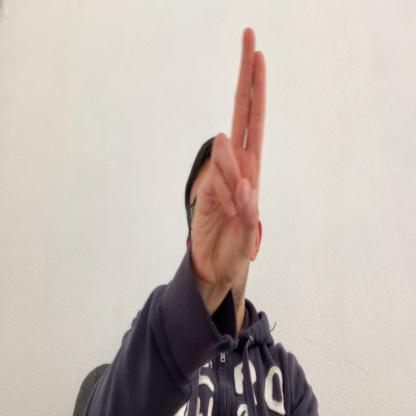U: (193, 26, 267, 293)
